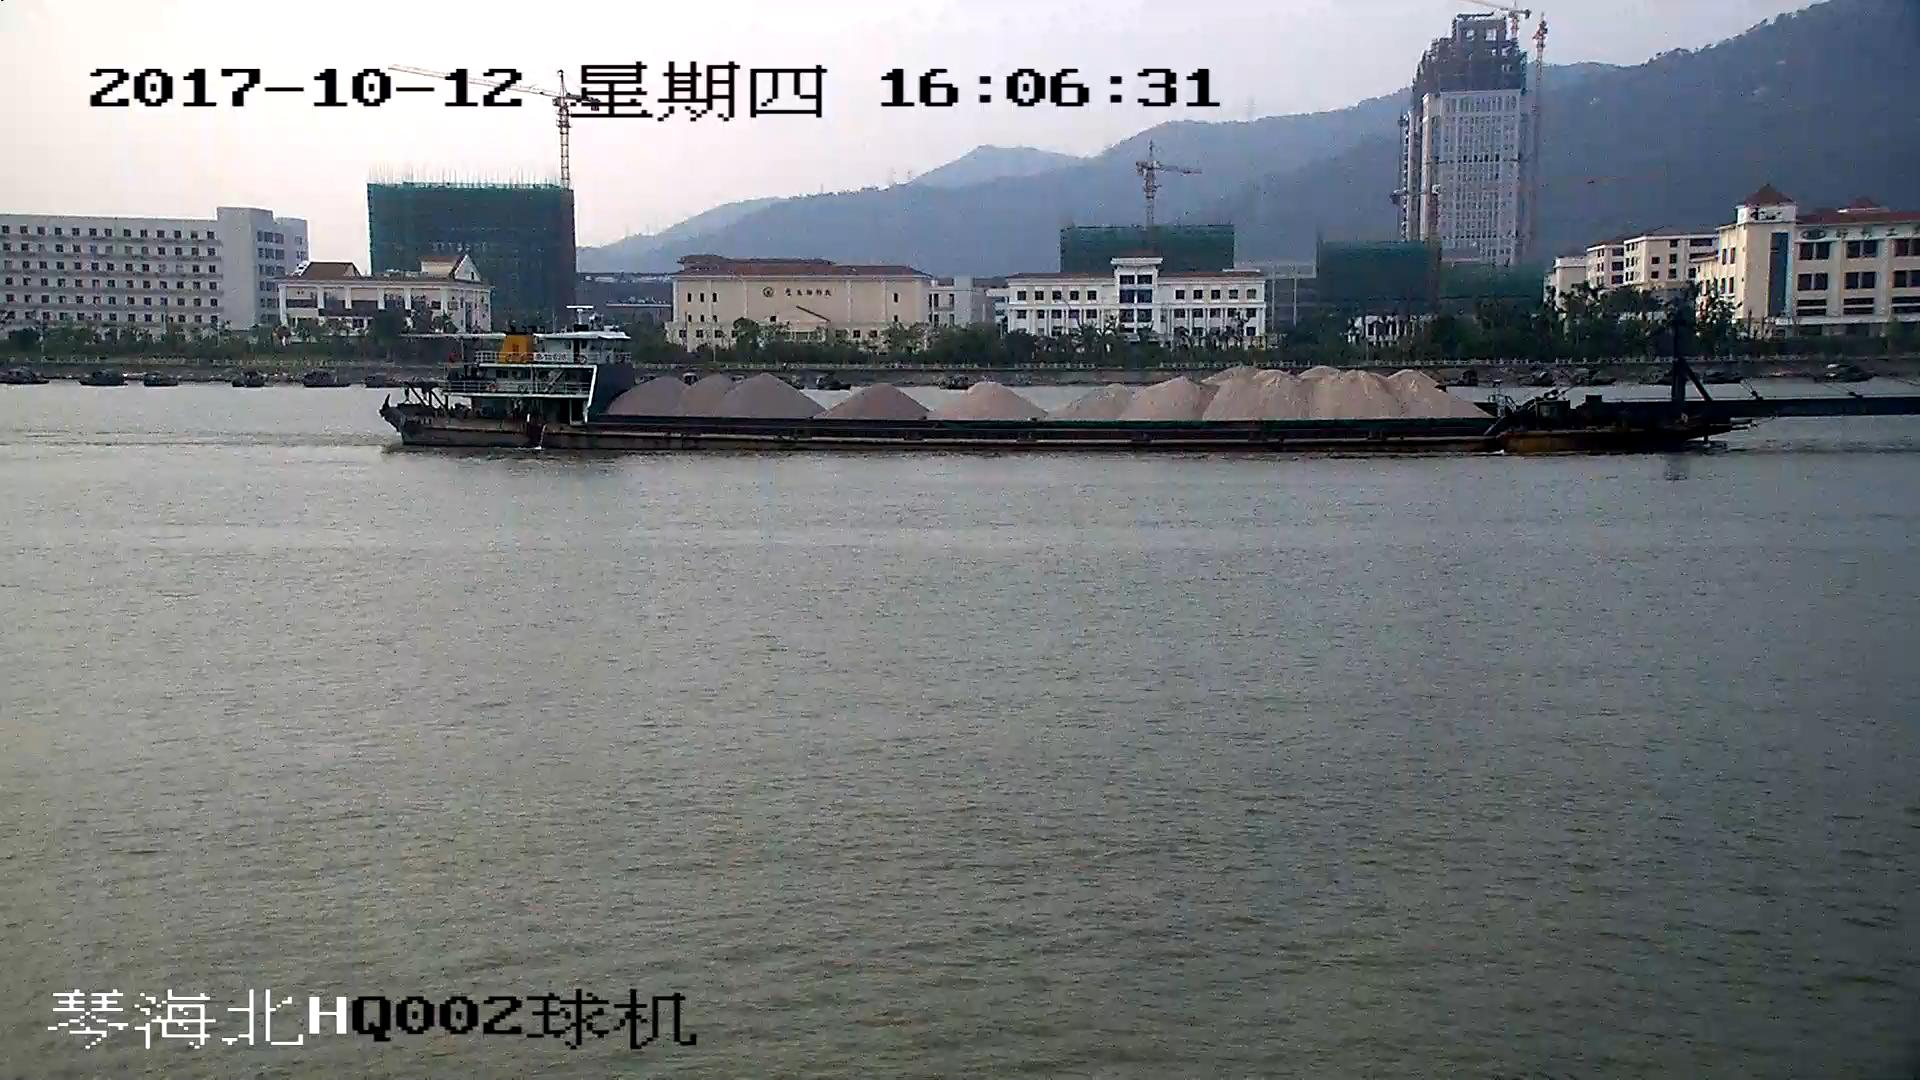ore carrier: (383, 306, 1920, 459)
